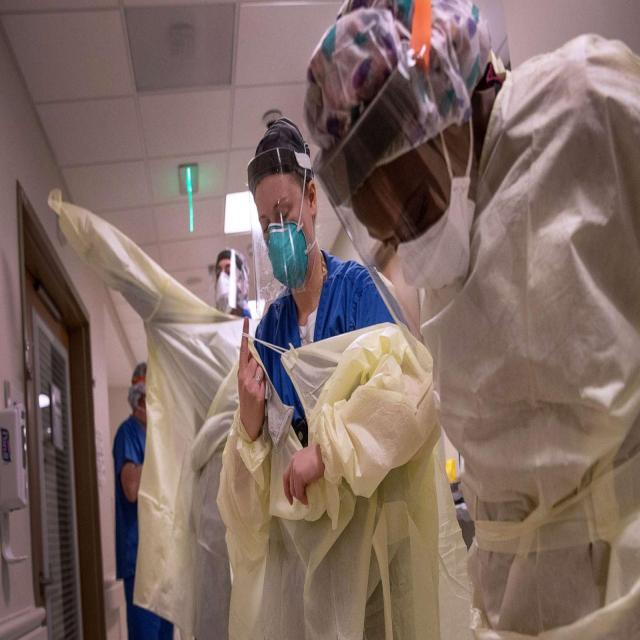Mask: (400, 173, 481, 295), (265, 228, 309, 284)
